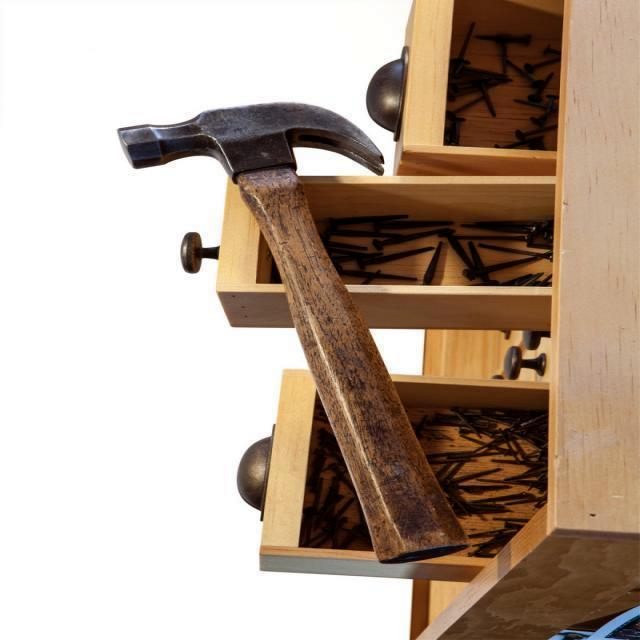hammer: (86, 92, 484, 572)
